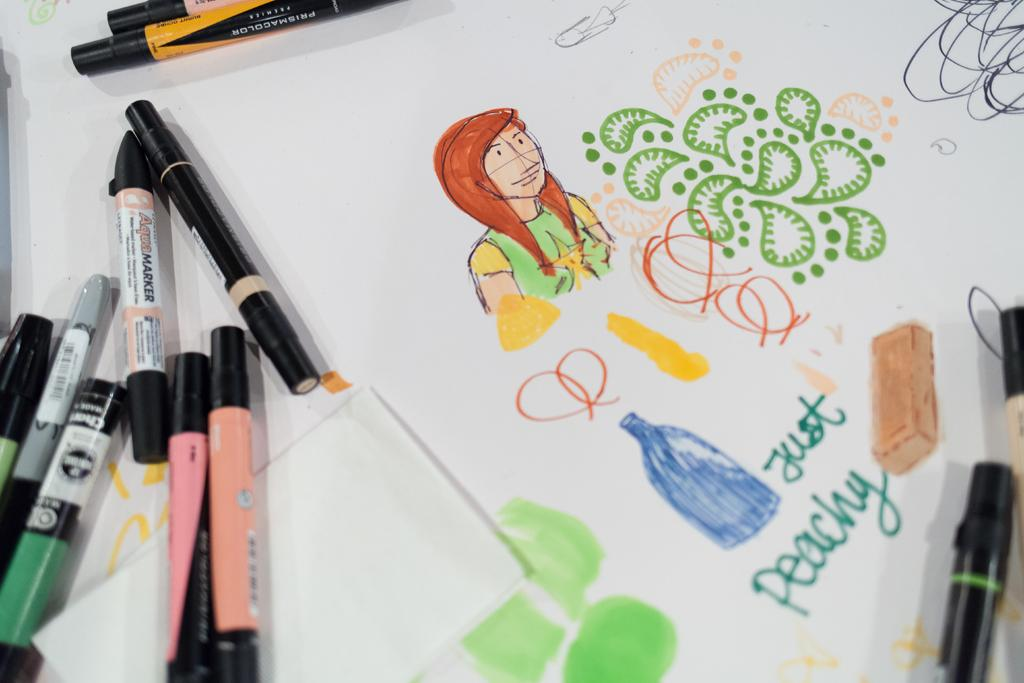pen: (3, 94, 349, 676), (70, 0, 417, 82), (920, 461, 1022, 681), (991, 303, 1023, 482), (106, 0, 239, 31)
